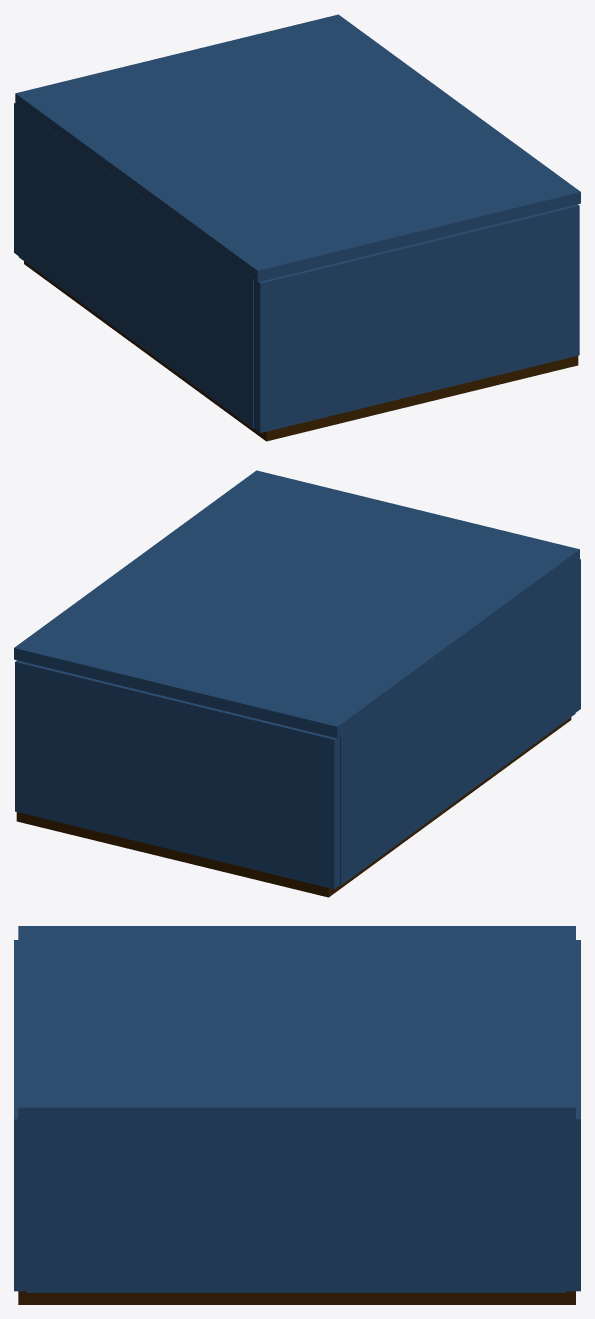
The model's file is walls.fbx.
The picture shows the model from 3 angles, top to bottom: view 1: azimuth 30°, elevation 25°; view 2: azimuth 150°, elevation 25°; view 3: azimuth 270°, elevation 25°; orthographic projection. The views are drawn at different scales.
Visible parts, largest first — view 1: Ceiling, Wall 3, Wall 4, Floor, Wall 1; view 2: Ceiling, Wall 1, Wall 4, Floor, Wall 3; view 3: Ceiling, Wall 2, Floor, Wall 1, Wall 3.
Part boxes in pixels (x1,y1,x2,y2): Ceiling: [15, 14, 580, 282]; Wall 3: [254, 204, 579, 432]; Wall 4: [18, 108, 253, 428]; Floor: [24, 261, 578, 441]; Wall 1: [14, 103, 18, 255]; Ceiling: [14, 470, 579, 738]; Wall 1: [15, 660, 339, 889]; Wall 4: [340, 564, 575, 885]; Floor: [16, 717, 571, 897]; Wall 3: [575, 559, 580, 712]; Ceiling: [18, 926, 575, 1120]; Wall 2: [27, 1121, 566, 1292]; Floor: [18, 1291, 575, 1304]; Wall 1: [566, 940, 580, 1291]; Wall 3: [14, 940, 26, 1291].
Bounding box in the file's own units: 688 × 351 × 908.
